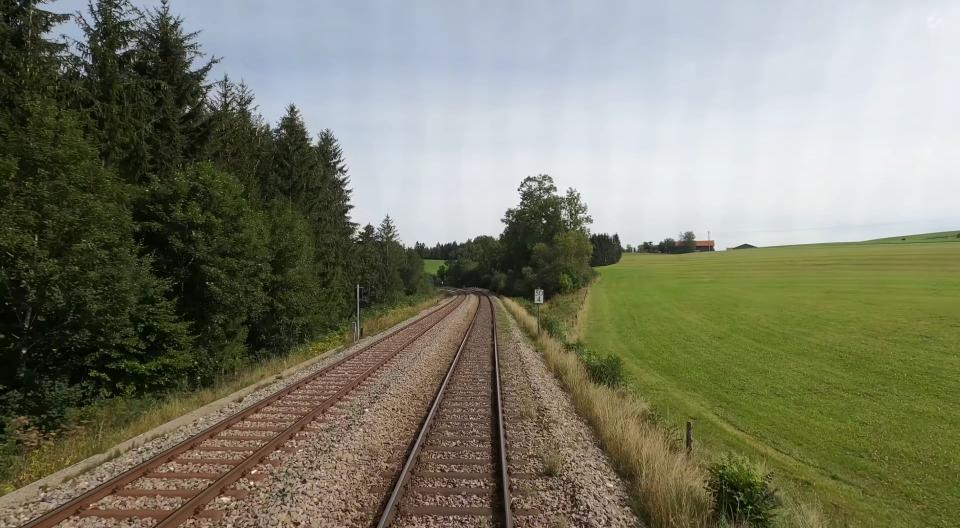Plant: (494, 298, 511, 342), (542, 453, 564, 477), (520, 396, 538, 421)
